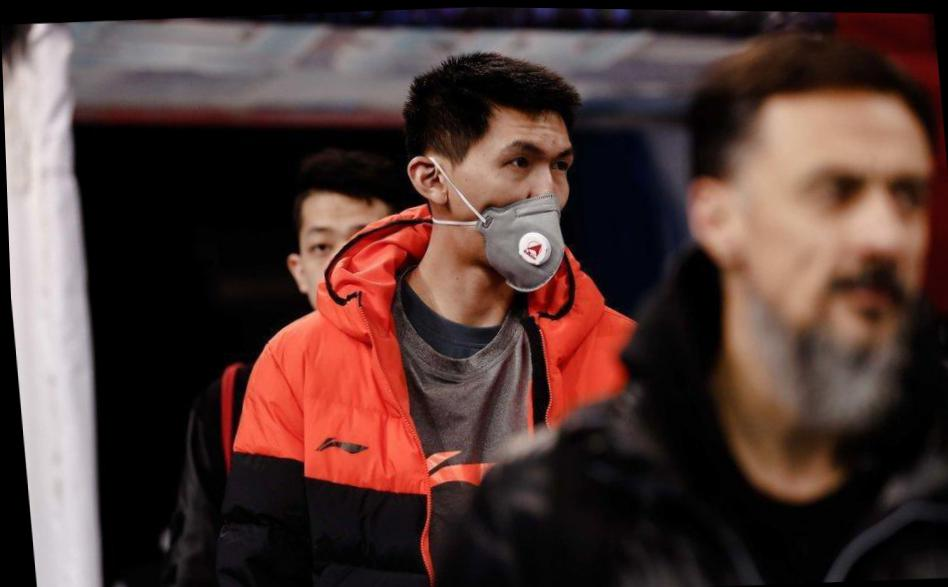NONE: (719, 130, 936, 352), (293, 206, 407, 321)
WRONG: (455, 123, 583, 277)
